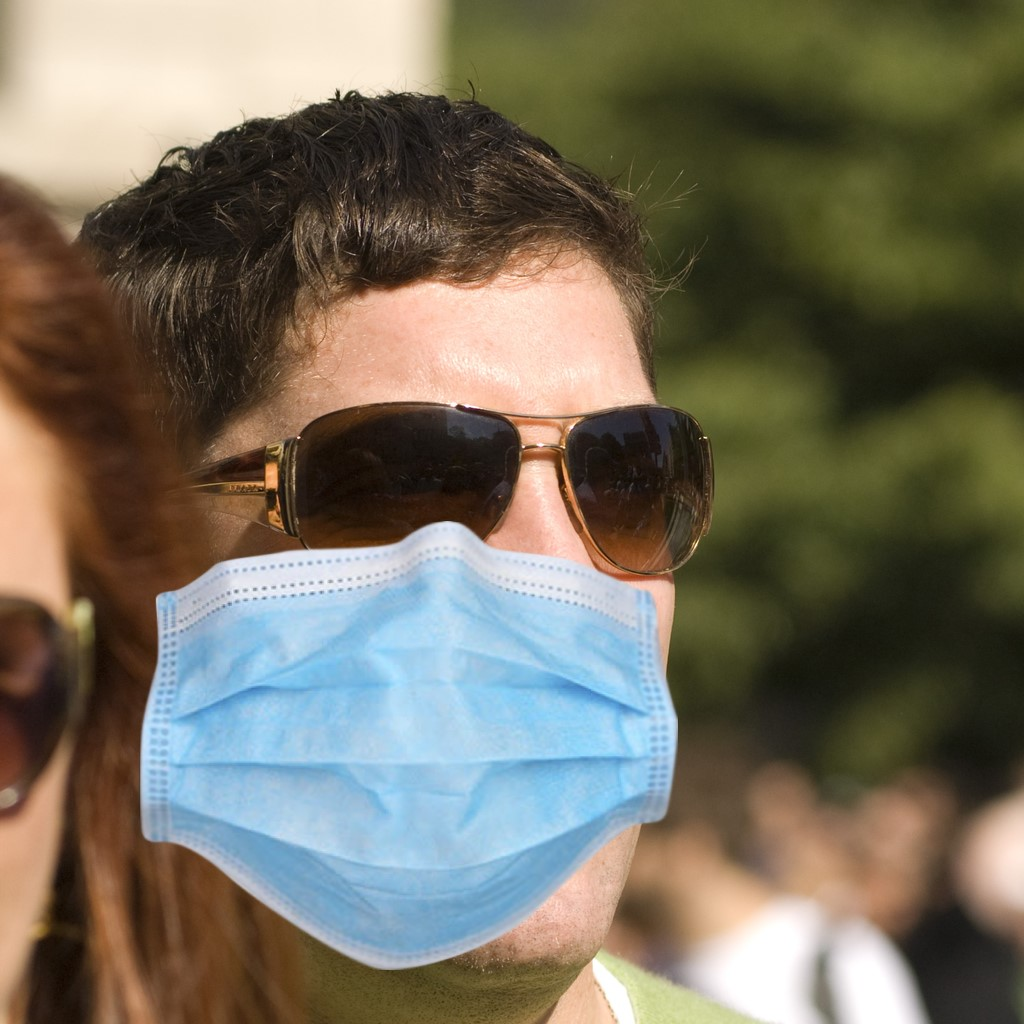con_mascara: (131, 213, 696, 972)
